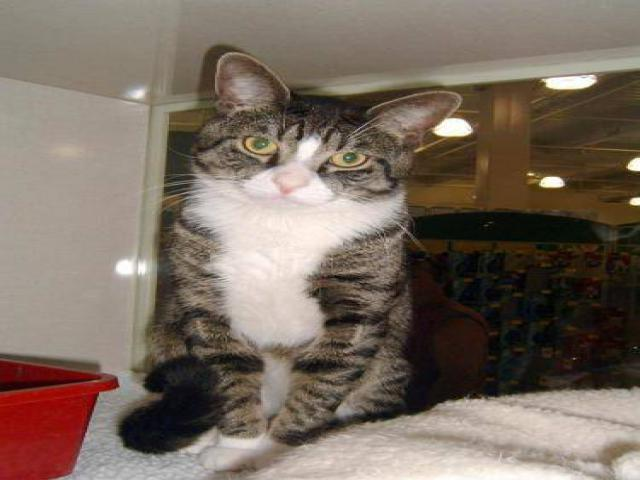cat: (115, 49, 472, 470)
